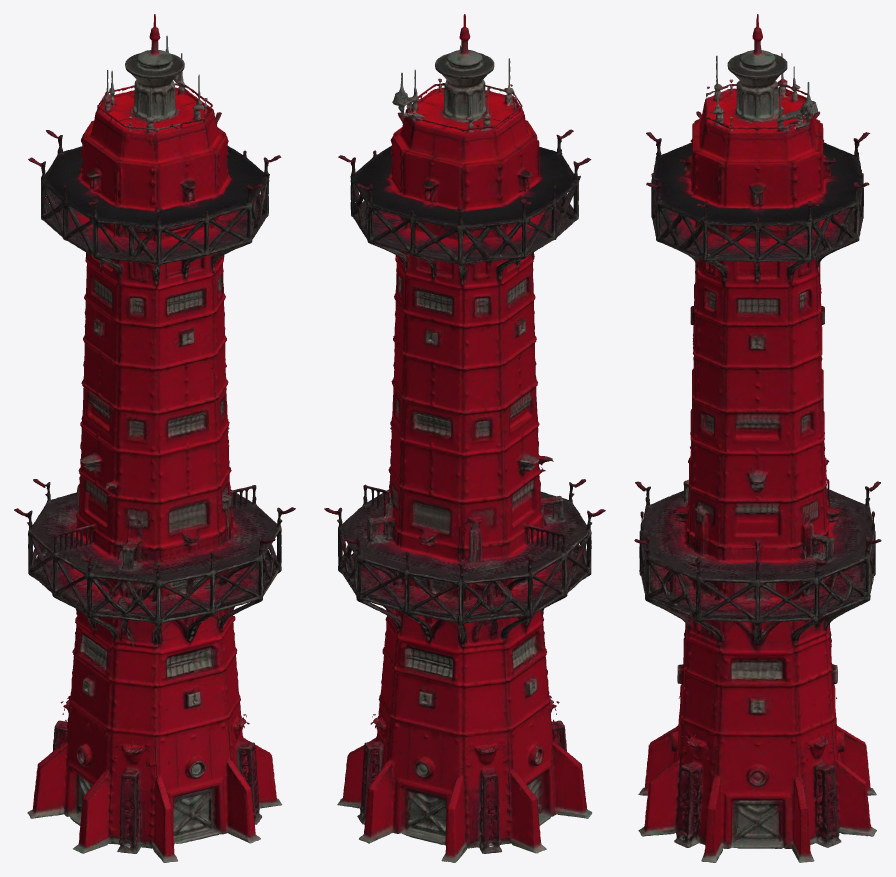
File: kanseitou_1024.glb
3 views of the same model, side by side, from view 1: azimuth 30°, elevation 25°; view 2: azimuth 150°, elevation 25°; view 3: azimuth 270°, elevation 25° (orthographic).
Parts seen in each view (by area): view 1: Mesh_0; view 2: Mesh_0; view 3: Mesh_0.
Part boxes in pixels (x1=…): Mesh_0: x1=14, y1=14, x2=295, y2=862; Mesh_0: x1=324, y1=14, x2=605, y2=862; Mesh_0: x1=634, y1=14, x2=881, y2=862.
Size of the model in its own units: 16.88 by 60 by 16.85.
Materials: 1 (1 with a texture image).
